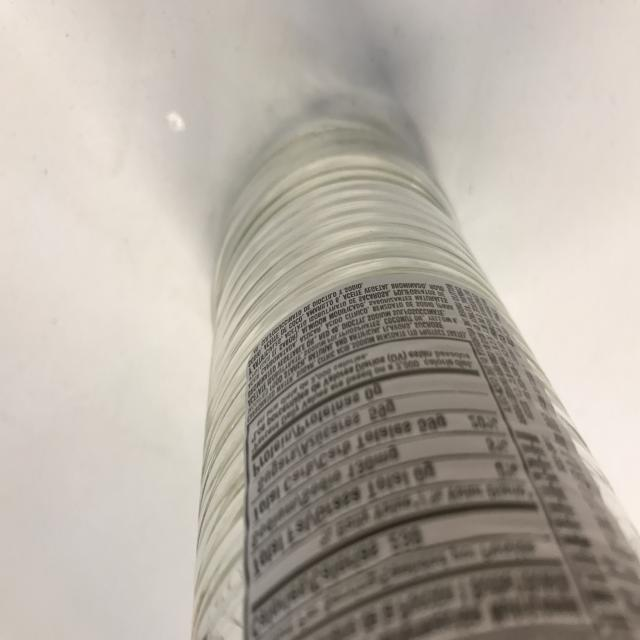glass: (188, 122, 640, 640)
